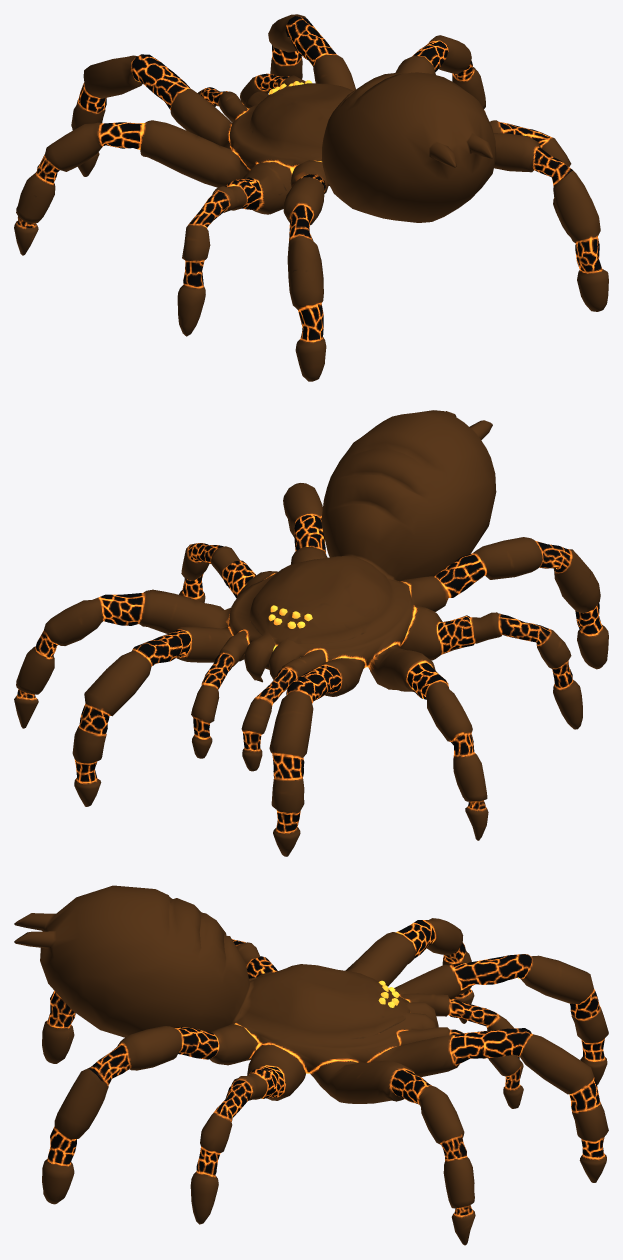
The model's file is AncientSpider.fbx.
3 renders of one model, top to bottom at view 1: azimuth 30°, elevation 25°; view 2: azimuth 150°, elevation 25°; view 3: azimuth 270°, elevation 25°, orthographic.
Parts seen in each view (by area): view 1: AncientSpider; view 2: AncientSpider; view 3: AncientSpider.
Part boxes in pixels (x1,y1,x2,y2): AncientSpider: (14, 14, 608, 381); AncientSpider: (14, 410, 608, 856); AncientSpider: (14, 885, 608, 1245).
Bounding box in the file's own units: 148 × 72.68 × 161.
